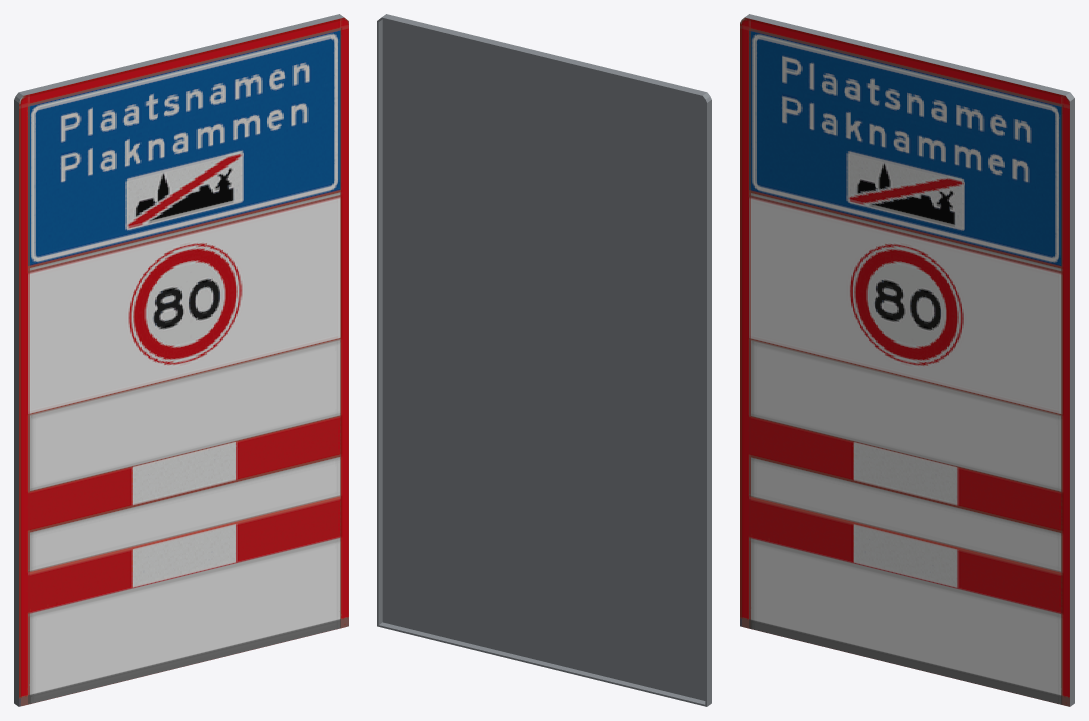
3 views of the same model, side by side, from view 1: azimuth 30°, elevation 25°; view 2: azimuth 150°, elevation 25°; view 3: azimuth 330°, elevation 25° (orthographic).
Visible parts, largest first — view 1: cat_63f566494e2be1b7; view 2: cat_63f566494e2be1b7; view 3: cat_63f566494e2be1b7.
Part boxes in pixels (left/top/right/bottom): cat_63f566494e2be1b7: left=14, top=14, right=348, bottom=706; cat_63f566494e2be1b7: left=377, top=14, right=711, bottom=706; cat_63f566494e2be1b7: left=740, top=14, right=1074, bottom=706.
Size of the model in its own units: 0.6 by 0.015 by 1.06.
Materials: 2 (1 with a texture image).
